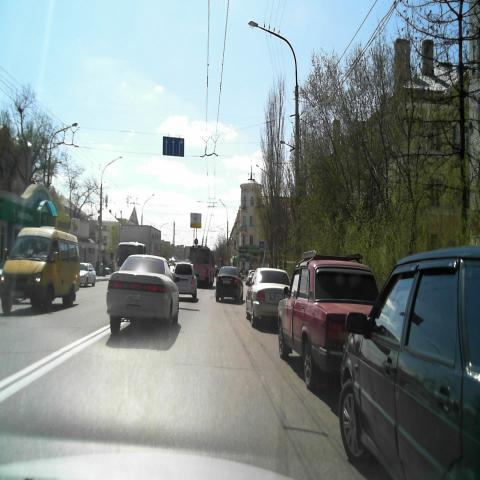5_15_1: (163, 136, 184, 157)
